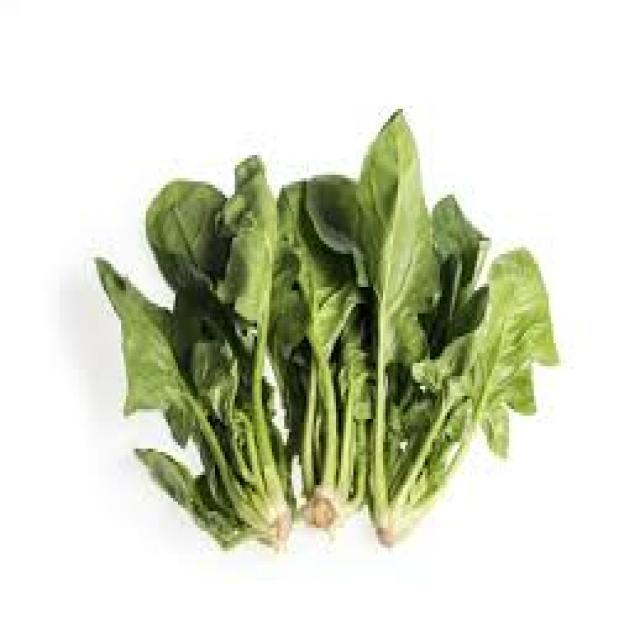spinach: (96, 111, 558, 546)
